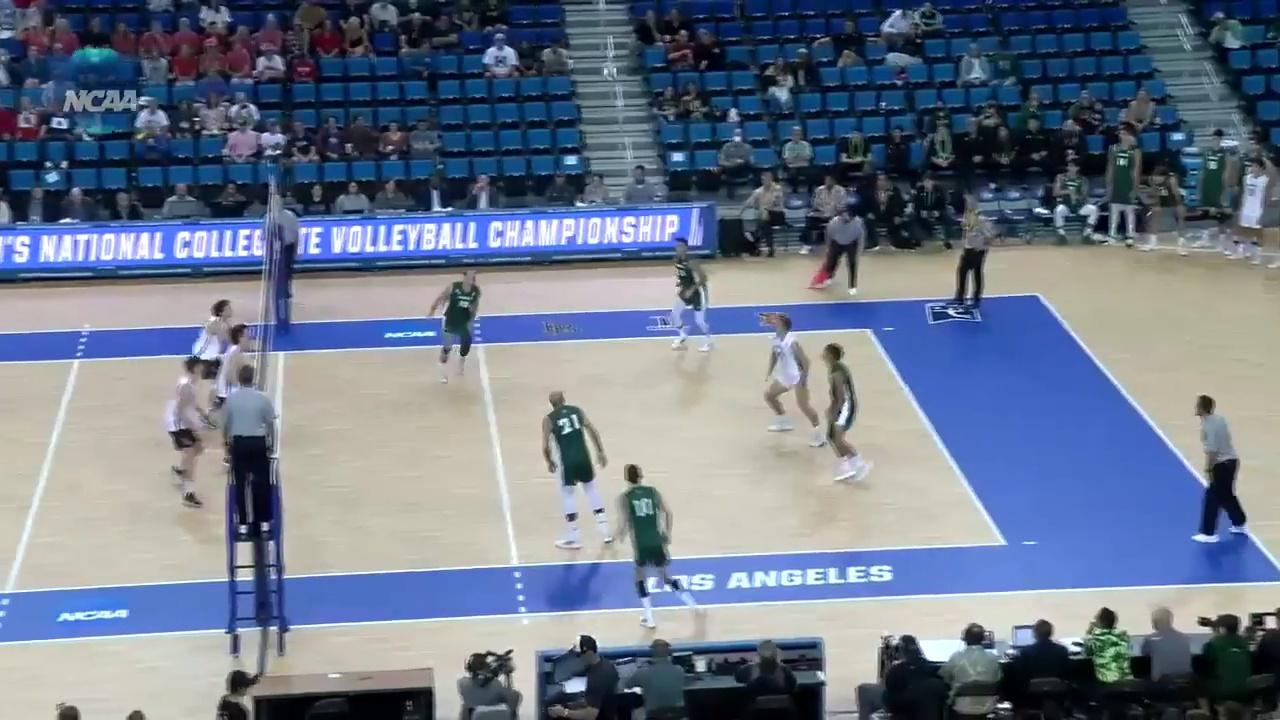player: (609, 463, 708, 630), (542, 393, 611, 554), (762, 316, 823, 446), (164, 354, 211, 512), (821, 343, 873, 483), (188, 296, 240, 429), (213, 327, 260, 467), (667, 241, 720, 351), (431, 268, 483, 380)
refree: (223, 366, 282, 533), (1188, 395, 1247, 542), (816, 209, 866, 294), (264, 196, 299, 299)
